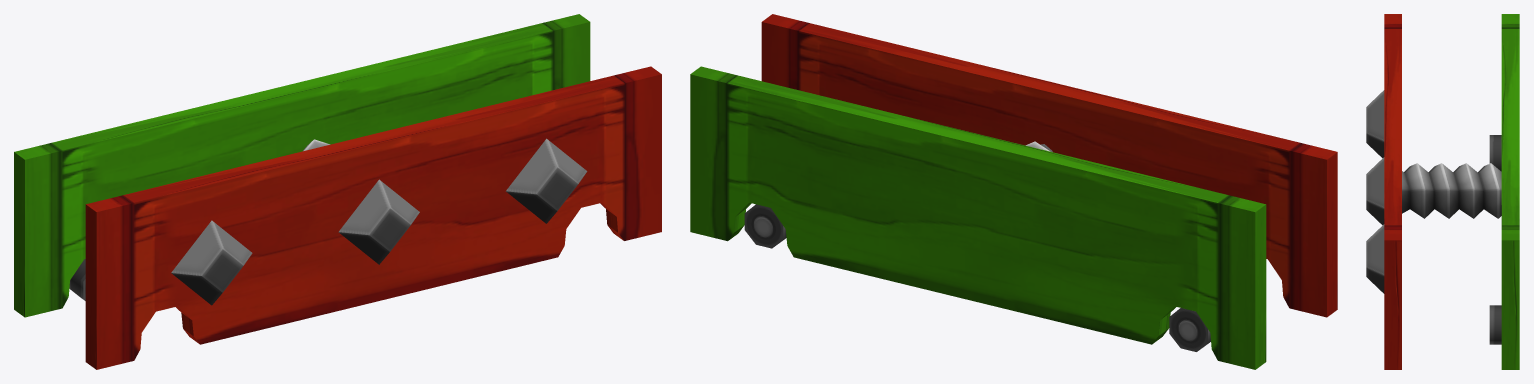
The model's file is dynamic_fence_burger_02.fbx.
The picture shows the model from 3 angles, left to right: view 1: azimuth 30°, elevation 25°; view 2: azimuth 150°, elevation 25°; view 3: azimuth 270°, elevation 25°; orthographic projection. The views are drawn at different scales.
Visible parts, largest first — view 1: dynamic_fence_burger_02; view 2: dynamic_fence_burger_02; view 3: dynamic_fence_burger_02.
Part boxes in pixels (box(x1,y1,x2,y2)): dynamic_fence_burger_02: box(14, 14, 661, 369); dynamic_fence_burger_02: box(690, 14, 1337, 369); dynamic_fence_burger_02: box(1366, 14, 1519, 369).
Size of the model in its own units: 150 by 40 by 42.9.
